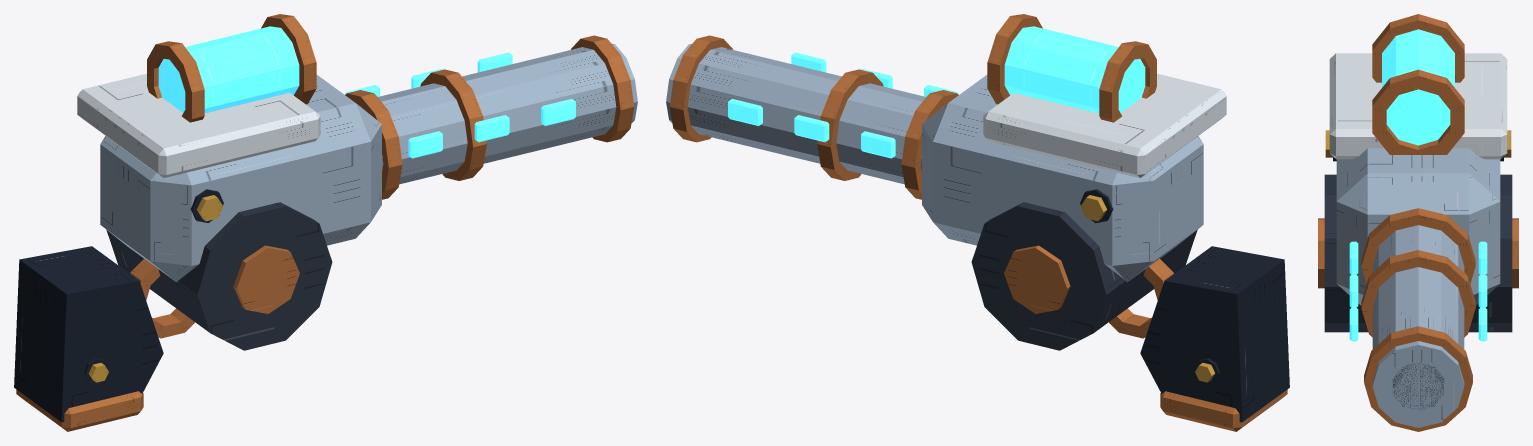
The model's file is voltneedle.glb.
3 views of the same model, side by side, from view 1: azimuth 30°, elevation 25°; view 2: azimuth 150°, elevation 25°; view 3: azimuth 270°, elevation 25° (orthographic).
Visible parts, largest first — view 1: body, barrel, grip, core; view 2: body, barrel, grip, core; view 3: body, barrel, core.
Part boxes in pixels (left/top/right/bottom): body: left=77, top=73, right=381, bottom=350; barrel: left=345, top=35, right=637, bottom=199; grip: left=14, top=246, right=163, bottom=431; core: left=147, top=14, right=316, bottom=122; body: left=922, top=73, right=1226, bottom=350; barrel: left=666, top=35, right=958, bottom=199; grip: left=1140, top=246, right=1289, bottom=431; core: left=987, top=14, right=1156, bottom=122; body: left=1318, top=53, right=1518, bottom=332; barrel: left=1349, top=208, right=1487, bottom=431; core: left=1372, top=14, right=1464, bottom=154.
Size of the model in its own units: 0.548 by 0.307 by 0.162.
Materials: 7 (7 with a texture image).
